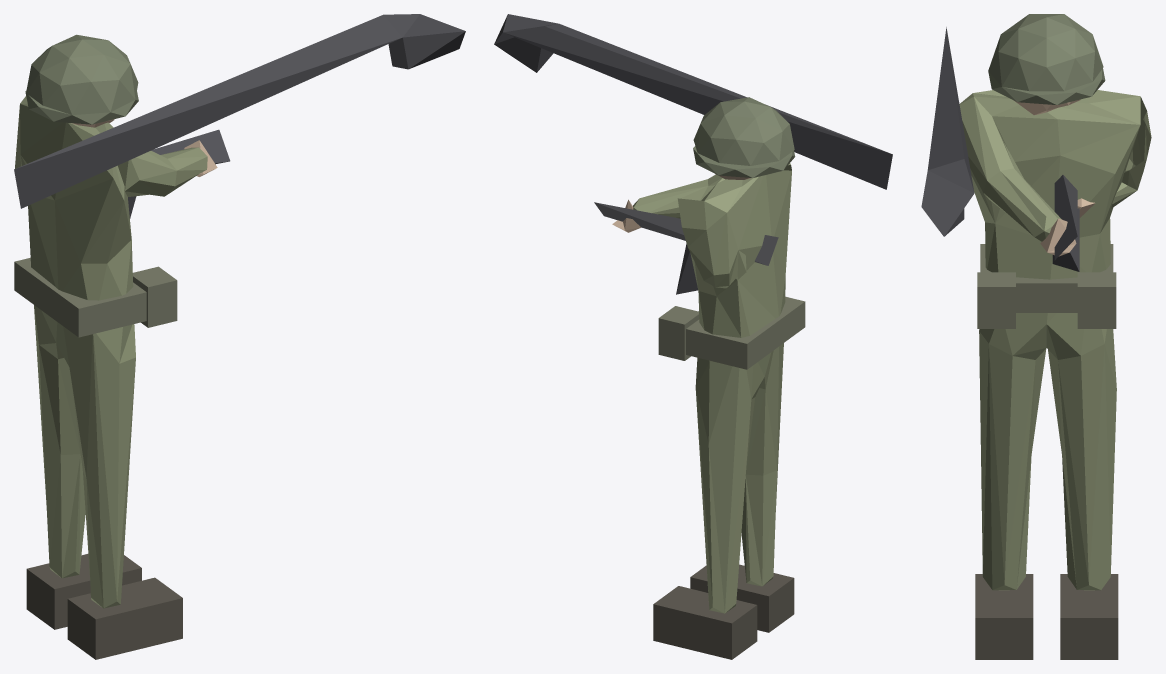
Rendered from at_infantry.lod2.glb.
3 renders of one model, left to right at view 1: azimuth 30°, elevation 25°; view 2: azimuth 150°, elevation 25°; view 3: azimuth 270°, elevation 25°, orthographic. The views are drawn at different scales.
Bounding box in the file's own units: 1.37 × 1.74 × 0.5966.
